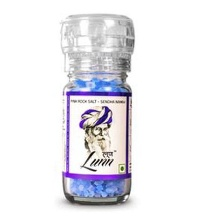bottle: (53, 7, 148, 212)
